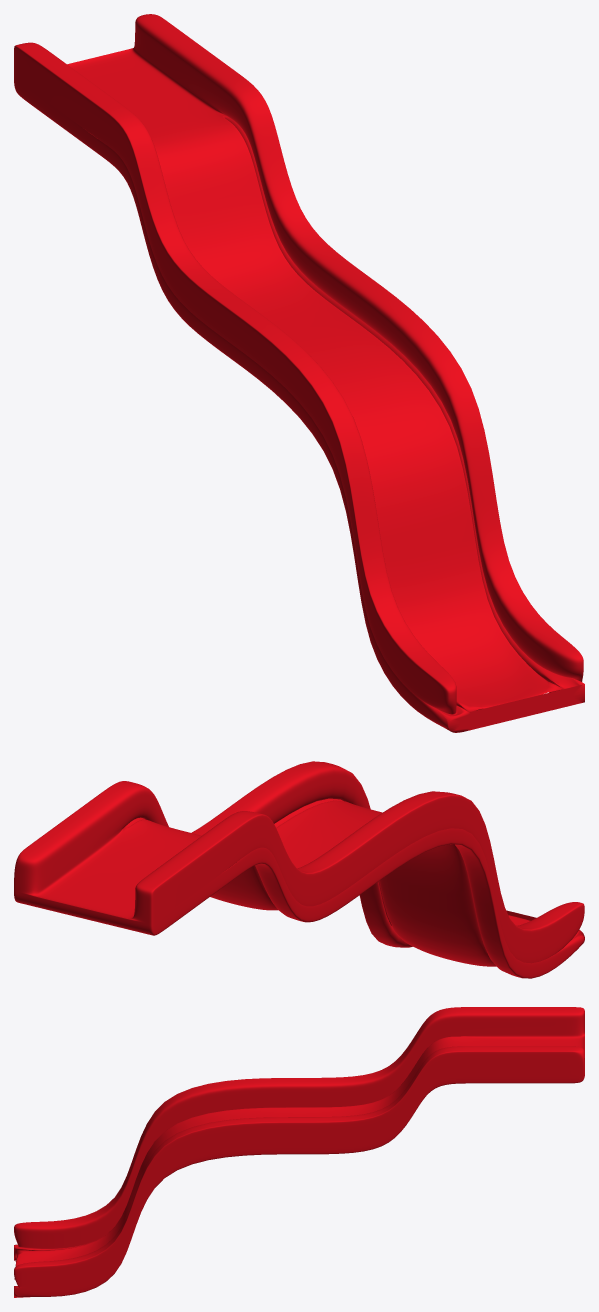
Rendered from redSlide.glb.
The picture shows the model from 3 angles, top to bottom: view 1: azimuth 30°, elevation 25°; view 2: azimuth 150°, elevation 25°; view 3: azimuth 270°, elevation 25°; orthographic projection. The views are drawn at different scales.
Parts seen in each view (by area): view 1: Cube.003; view 2: Cube.003; view 3: Cube.003.
Part boxes in pixels (x1=…): Cube.003: x1=14, y1=14, x2=584, y2=732; Cube.003: x1=14, y1=761, x2=584, y2=978; Cube.003: x1=14, y1=1007, x2=584, y2=1297.
Bounding box in the file's own units: 1.3 × 3.34 × 7.
